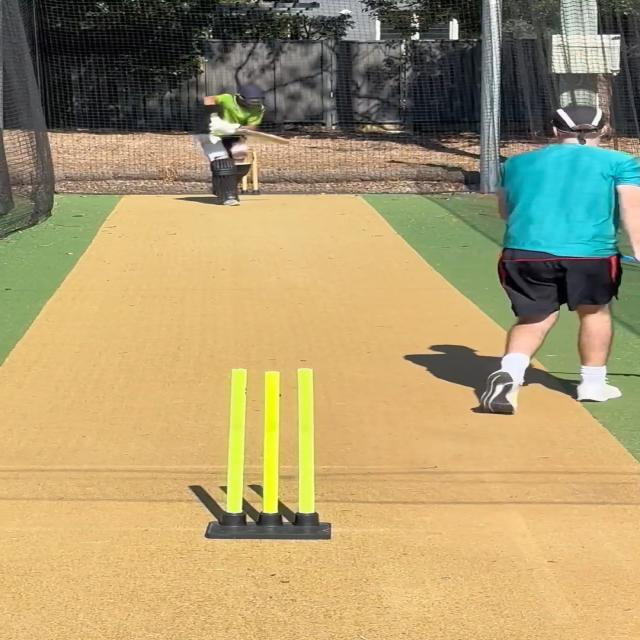stump: (203, 362, 330, 540)
